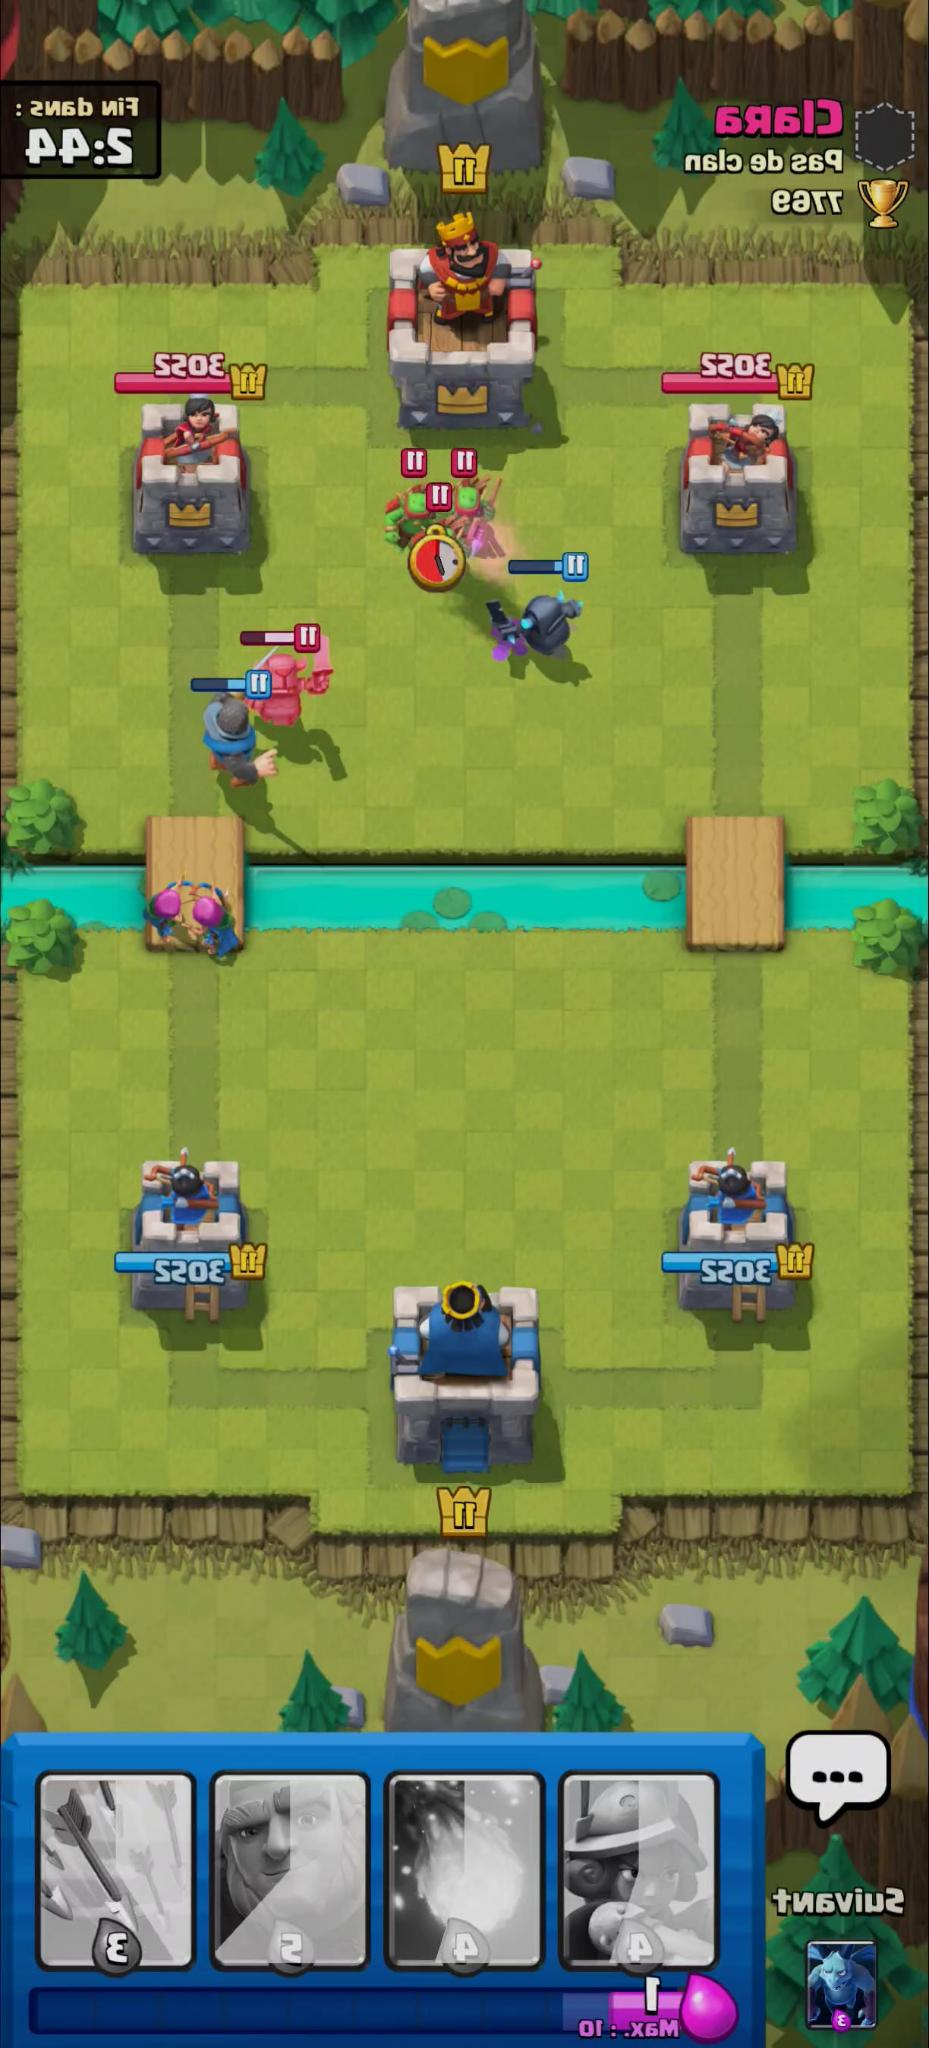archere: (189, 879, 239, 964), (140, 871, 188, 952)
chevalier: (200, 688, 274, 789)
gobelin_lances: (444, 469, 500, 559), (383, 486, 446, 551)
mini_PEKKA: (483, 585, 587, 661), (247, 633, 327, 724)
